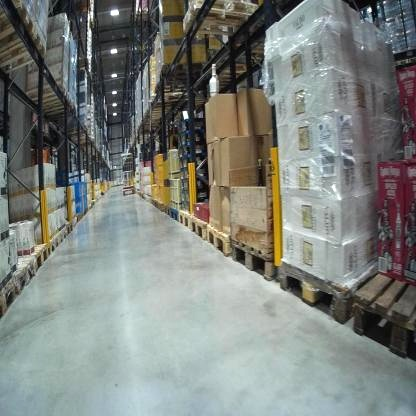pallets: (164, 203, 416, 375), (0, 197, 98, 319)
